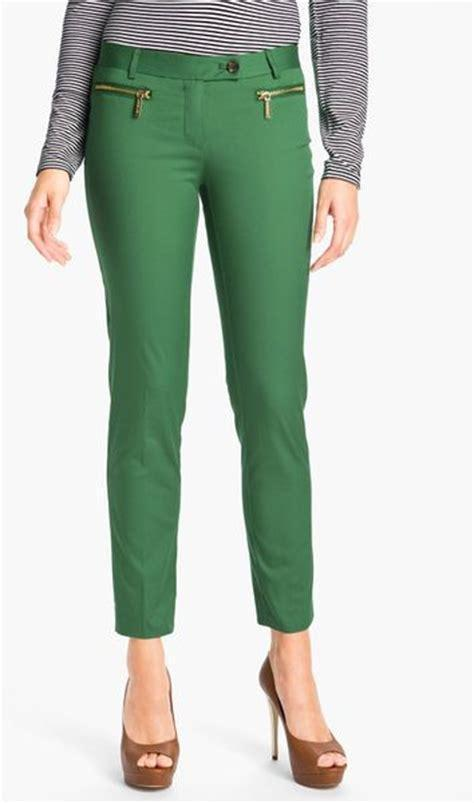pants: (85, 39, 316, 639)
